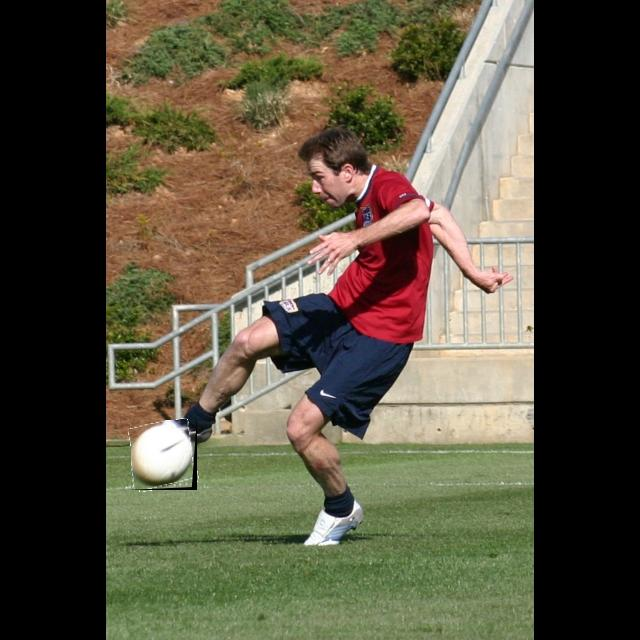Football: (131, 420, 197, 490)
